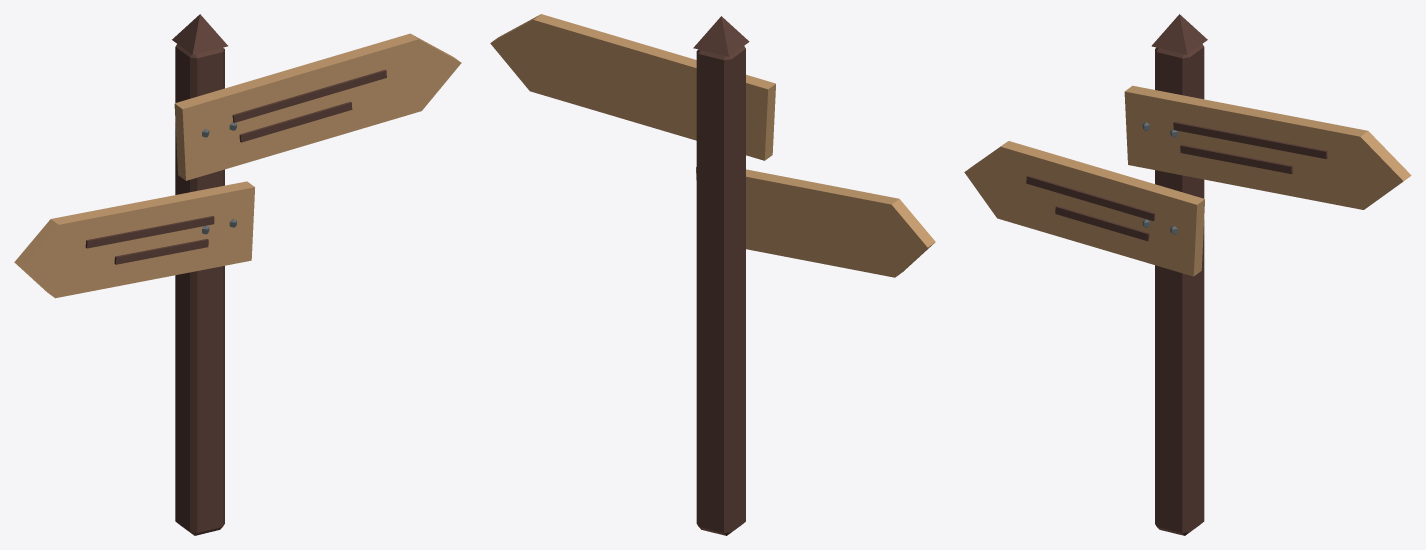
File: signpost.glb
The picture shows the model from 3 angles, left to right: view 1: azimuth 30°, elevation 25°; view 2: azimuth 150°, elevation 25°; view 3: azimuth 330°, elevation 25°; orthographic projection.
Visible parts, largest first — view 1: signpost-m; view 2: signpost-m; view 3: signpost-m.
Boxes of the visible parts, x1,y1,x2,y2 form: signpost-m: (14,14,461,535); signpost-m: (490,14,935,535); signpost-m: (964,14,1411,535).
Bounding box in the file's own units: 1.9 × 2.12 × 0.2384.
